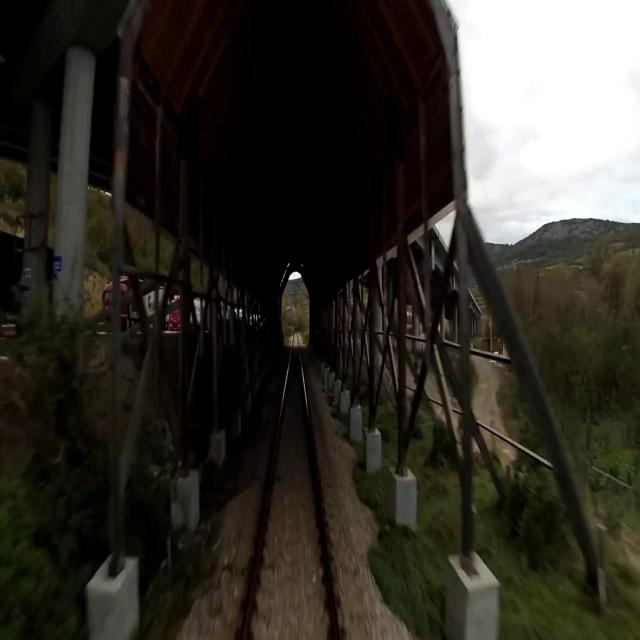rail-track: (245, 335, 334, 639)
